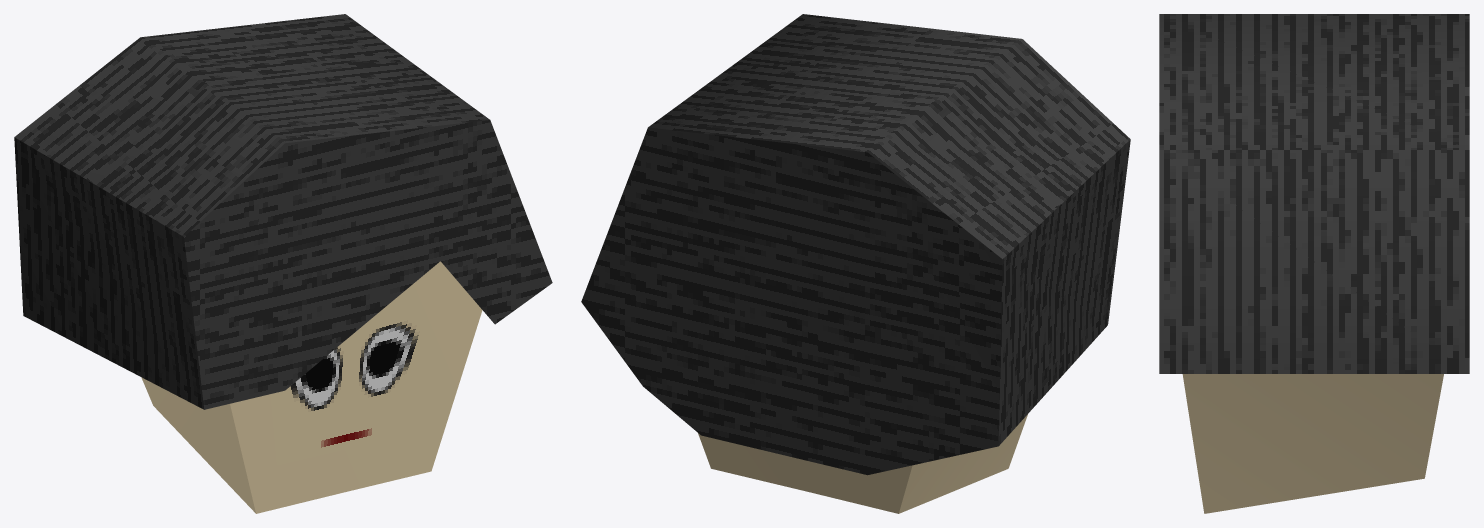
The model's file is C_GH_Head_M3.FBX.
3 renders of one model, left to right at view 1: azimuth 30°, elevation 25°; view 2: azimuth 150°, elevation 25°; view 3: azimuth 270°, elevation 25°, orthographic. The views are drawn at different scales.
Visible parts, largest first — view 1: Hair, Head; view 2: Hair, Head; view 3: Hair, Head.
Boxes of the visible parts, x1,y1,x2,y2 form: Hair: [14, 14, 552, 409]; Head: [141, 261, 482, 513]; Hair: [581, 14, 1130, 475]; Head: [698, 414, 1027, 513]; Hair: [1159, 14, 1469, 373]; Head: [1182, 374, 1443, 513].
Bounding box in the file's own units: 28.63 × 26.72 × 18.23.
Materials: 2 (2 with a texture image).
